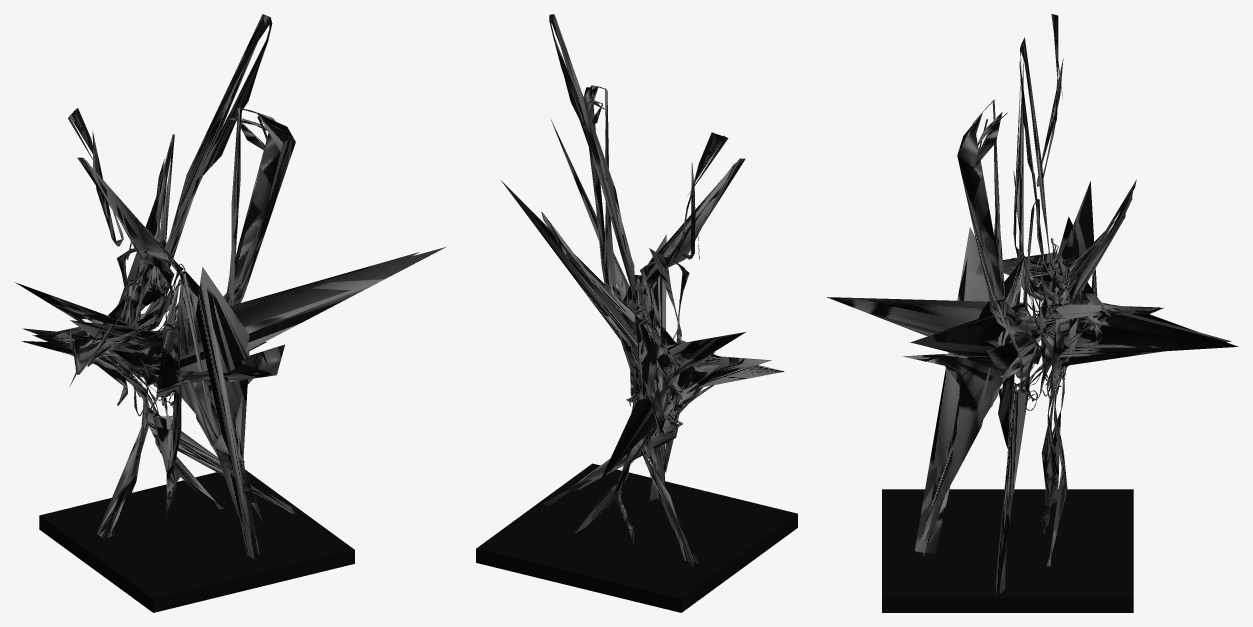
Rendered from LEGEND-BLCK-v104.glb.
The picture shows the model from 3 angles, left to right: view 1: azimuth 30°, elevation 25°; view 2: azimuth 150°, elevation 25°; view 3: azimuth 270°, elevation 25°; orthographic projection. The views are drawn at different scales.
Visible parts, largest first — view 1: LEGEND-BLCK; view 2: LEGEND-BLCK; view 3: LEGEND-BLCK.
Part boxes in pixels (x1,y1,x2,y2): LEGEND-BLCK: (15, 14, 446, 612); LEGEND-BLCK: (476, 14, 797, 612); LEGEND-BLCK: (826, 14, 1238, 612).
Size of the model in its own units: 12 by 18 by 12.
1 material, 1 textured.
